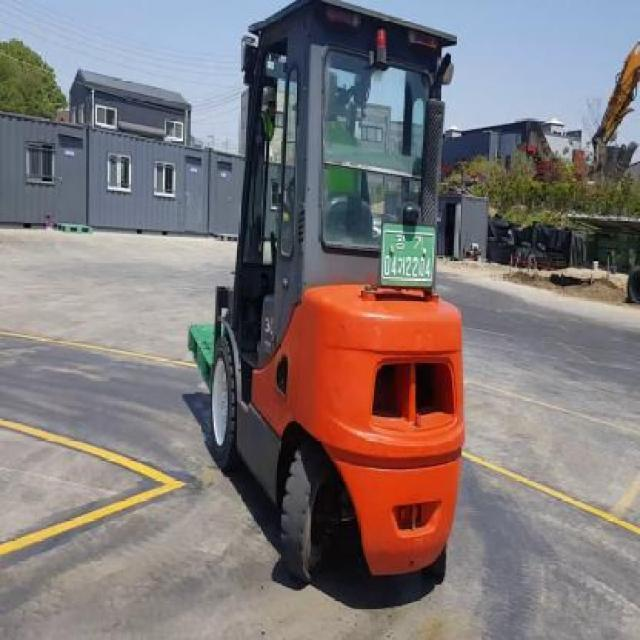forklift: (198, 5, 471, 598)
